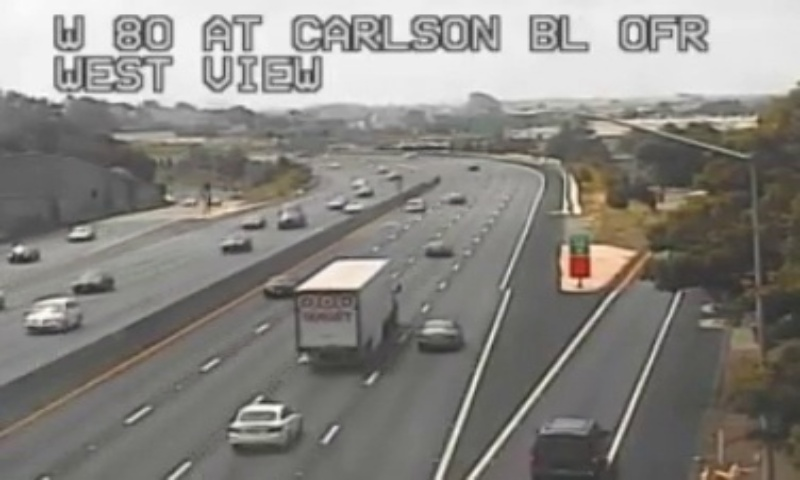car: (529, 416, 602, 480), (227, 404, 300, 451), (417, 319, 459, 348), (261, 276, 300, 299)
truck: (291, 256, 395, 366)
